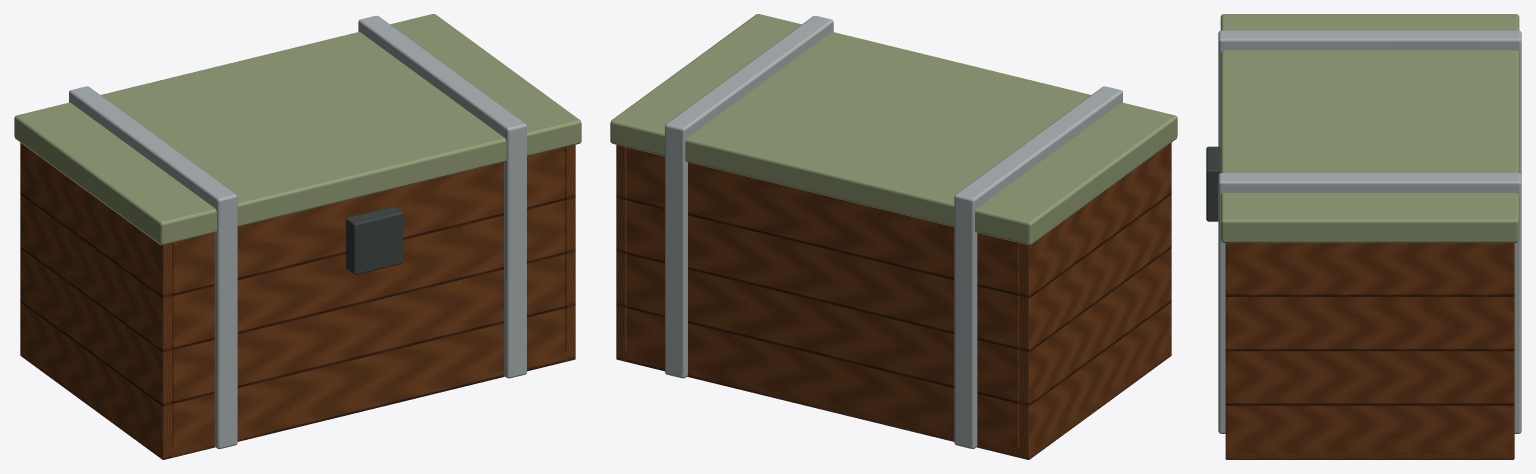
File: prehistoric-expedition-sites-field-supply-cache-f49a007c__26132.glb
The picture shows the model from 3 angles, left to right: view 1: azimuth 30°, elevation 25°; view 2: azimuth 150°, elevation 25°; view 3: azimuth 270°, elevation 25°; orthographic projection.
Visible parts, largest first — view 1: field-supply-cache, lid/canvas; view 2: field-supply-cache, lid/canvas; view 3: field-supply-cache, lid/canvas.
Boxes of the visible parts, left/top/right/bottom form: field-supply-cache: left=20, top=15, right=575, bottom=459; lid/canvas: left=14, top=14, right=581, bottom=245; field-supply-cache: left=616, top=15, right=1171, bottom=459; lid/canvas: left=610, top=14, right=1177, bottom=245; field-supply-cache: left=1206, top=30, right=1521, bottom=459; lid/canvas: left=1220, top=14, right=1519, bottom=242.
Bounding box in the file's own units: 1.02 × 0.58 × 0.655.
4 materials, 1 textured.
